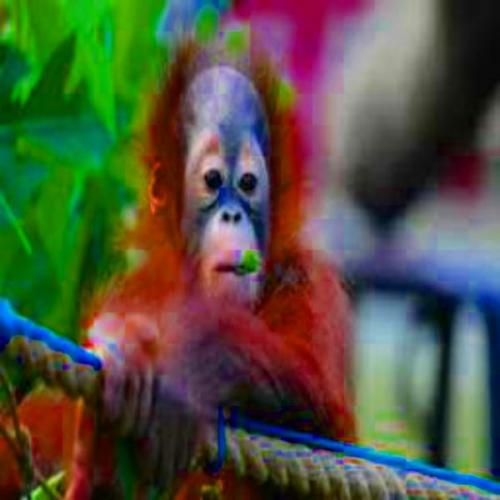orangutan-endangered: (49, 46, 356, 500)
